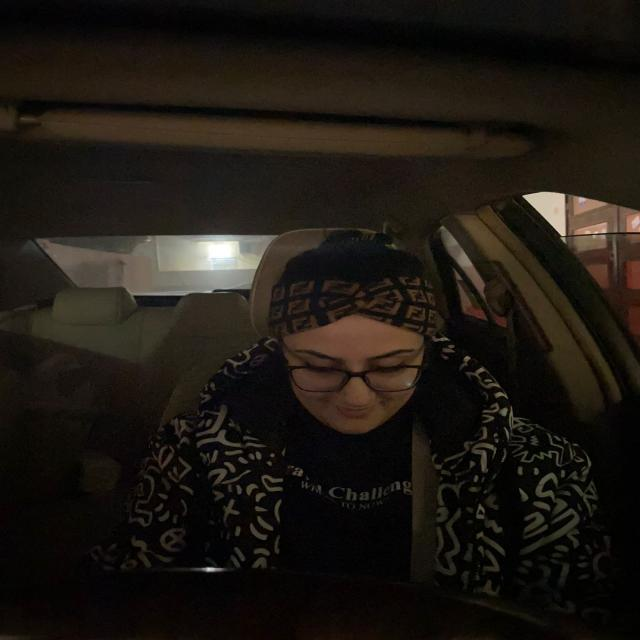drowsy: (261, 227, 455, 444)
